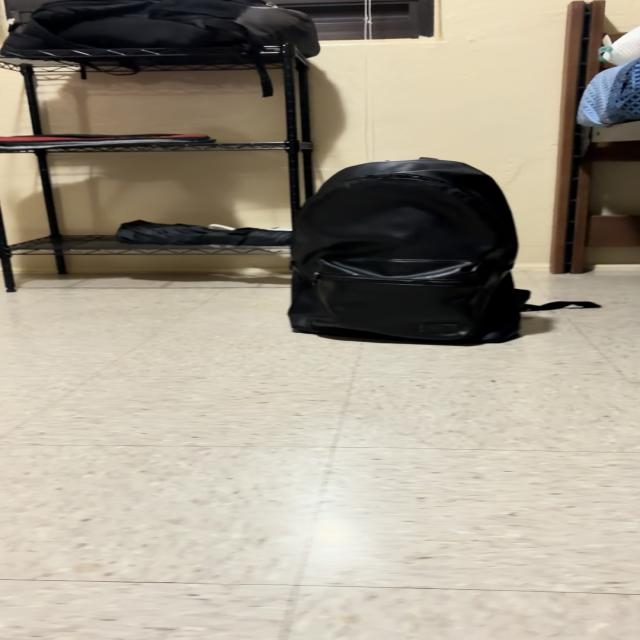backpack: (289, 158, 571, 342), (0, 0, 319, 95), (573, 303, 597, 306), (86, 56, 90, 66)
